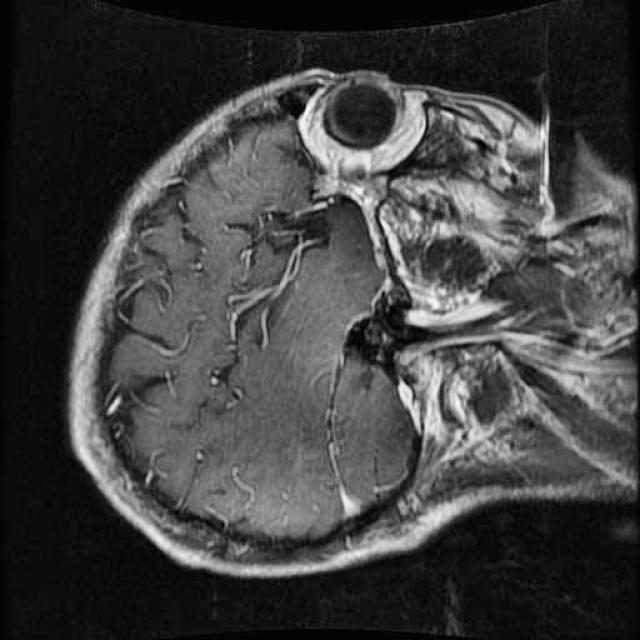Tumor: (238, 194, 348, 274)
